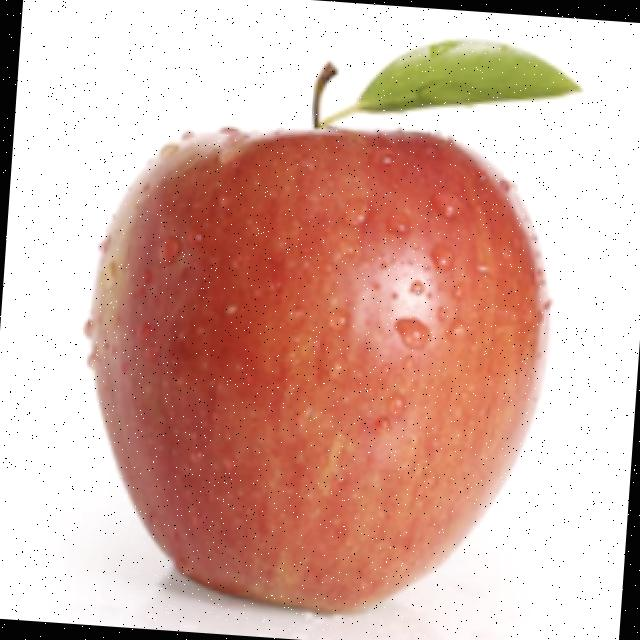Ripe: (64, 99, 570, 635)
